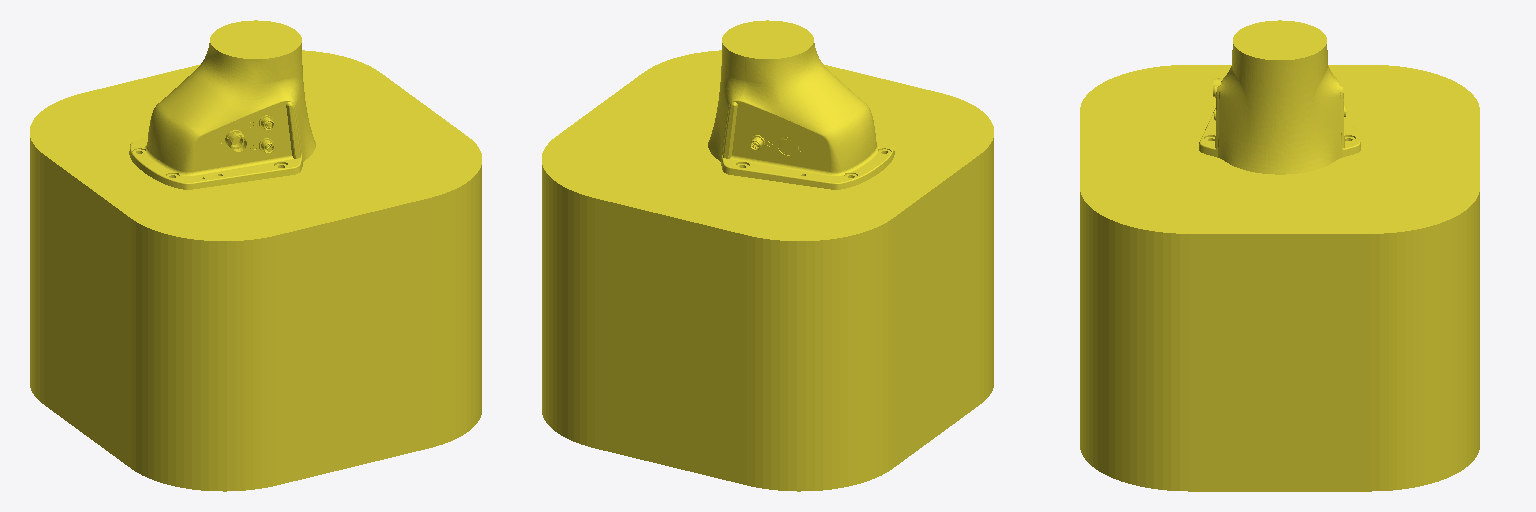
URDF robot description (mmp_panda):
<?xml version='1.0' encoding='utf-8'?>

<robot name="mmp_panda" version="1.0">

  <!-- GROUND LINK -->
  <link name ="ground_link">
    <inertial>
      <origin xyz="0.0 0.0 0.0" rpy="0 0 0" />
      <mass value="0.001" />
      <inertia ixx="1E-06" ixy="0.0" ixz="0.0" iyy="1E-06" iyz="0.0" izz="1E-06" />
    </inertial>
  </link>


  <!-- MOBILE BASE LINKS -->
  <link name ="base_x">
    <inertial>
      <origin xyz="0.0 0.0 0.0" rpy="0 0 0" />
      <mass value="0.001" />
      <inertia ixx="1E-06" ixy="0.0" ixz="0.0" iyy="1E-06" iyz="0.0" izz="1E-06" />
    </inertial>
  </link>

  <link name = "base_y">
    <inertial>
      <origin xyz="0.0 0.0 0.0" rpy="0 0 0" />
      <mass value = "0.001" />
      <inertia ixx="1E-06" ixy="0.0" ixz="0.0" iyy="1E-06" iyz="0.0" izz="1E-06" />
    </inertial>
  </link>

  <!-- MOBILE BASE + LINK 0 OF PANDA ARM -->
  <link name = "base_link">
    <inertial>
      <origin xyz="0.0 0.0 0.1757" rpy="0 0 0" />
      <mass value = "64.6" />
      <inertia ixx="1.721" ixy="0.0" ixz="0.0" iyy="1.712" iyz="0.0" izz="2.030" />
    </inertial>
    <visual>
      <geometry>
        <mesh filename="meshes/panda_BaseCombo.obj" />
      </geometry>
    </visual>
  </link>

  <!-- PANDA ARM LINKS --> 
<!--<link name="link0">
    <inertial>
      <origin xyz="0 0 0.05" rpy="0 0 0" />
      <mass value="4" />
      <inertia ixx="0.4" iyy="0.4" izz="0.4" ixy="0" ixz="0" iyz="0" />
    </inertial>
    <visual>
      <geometry>
        <mesh filename="../panda/meshes/visual/link0.obj"/>
      </geometry>
    </visual>
<!      <collision>
        <geometry>
          <mesh filename="../panda/meshes/collision/link0.obj"/>
        </geometry>
      </collision> 
  </link> -->
  <link name="link1">
    <inertial>
      <origin xyz="0 0 -0.07" rpy="0 -0 0" />
      <mass value="4" />
      <inertia ixx="0.3" iyy="0.3" izz="0.3" ixy="0" ixz="0" iyz="0" />
    </inertial>
    <visual>
      <geometry>
        <mesh filename="../panda/meshes/visual/link1.obj"/>
      </geometry>
    </visual>
    <!-- <collision>
      <geometry>
        <mesh filename="../panda/meshes/collision/link1.obj"/>
      </geometry>
    </collision> -->
  </link>
  <link name="link2">
    <inertial>
      <origin xyz="0 -0.1 0" rpy="0 -0 0" />
      <mass value="3" />
      <inertia ixx="0.3" iyy="0.3" izz="0.3" ixy="0" ixz="0" iyz="0" />
    </inertial>
    <visual>
      <geometry>
        <mesh filename="../panda/meshes/visual/link2.obj"/>
      </geometry>
    </visual>
    <!-- <collision>
      <geometry>
        <mesh filename="../panda/meshes/collision/link2.obj"/>
      </geometry>
    </collision> -->
  </link>
  <link name="link3">
    <inertial>
      <origin xyz="0.04 0 -0.05" rpy="0 -0 0" />
      <mass value="3" />
      <inertia ixx="0.2" iyy="0.2" izz="0.2" ixy="0" ixz="0" iyz="0" />
    </inertial>
    <visual>
      <geometry>
        <mesh filename="../panda/meshes/visual/link3.obj"/>
      </geometry>
    </visual>
    <!-- <collision>
      <geometry>
        <mesh filename="../panda/meshes/collision/link3.obj"/>
      </geometry>
    </collision> -->
  </link>
  <link name="link4">
    <inertial>
      <origin xyz="-0.04 0.05 0" rpy="0 -0 0" />
      <mass value="3" />
      <inertia ixx="0.2" iyy="0.2" izz="0.2" ixy="0" ixz="0" iyz="0" />
    </inertial>
    <visual>
      <geometry>
        <mesh filename="../panda/meshes/visual/link4.obj"/>
      </geometry>
    </visual>
<!--       <collision>
      <geometry>
        <mesh filename="../panda/meshes/collision/link4.obj"/>
      </geometry>
    </collision> -->
  </link>
  <link name="link5">
    <inertial>
      <origin xyz="0 0 -0.15" rpy="0 -0 0" />
      <mass value="3" />
      <inertia ixx="0.2" iyy="0.2" izz="0.2" ixy="0" ixz="0" iyz="0" />
    </inertial>
    <visual>
      <geometry>
        <mesh filename="../panda/meshes/visual/link5.obj"/>
      </geometry>
    </visual>
<!--       <collision>
      <geometry>
        <mesh filename="../panda/meshes/collision/link5.obj"/>
      </geometry>
    </collision> -->
  </link>
  <link name="link6">
    <inertial>
      <origin xyz="0.06 0 0" rpy="0 -0 0" />
      <mass value="2" />
      <inertia ixx="0.1" iyy="0.1" izz="0.1" ixy="0" ixz="0" iyz="0" />
    </inertial>
    <visual>
      <geometry>
        <mesh filename="../panda/meshes/visual/link6.obj"/>
      </geometry>
    </visual>
    <!-- <collision>
      <geometry>
        <mesh filename="../panda/meshes/collision/link6.obj"/>
      </geometry>
    </collision> -->
  </link>
  <link name="link7">
    <inertial>
      <origin xyz="0 0 0.17" rpy="0 -0 0" />
      <mass value="3.0" />
      <inertia ixx="0.09" iyy="0.05" izz="0.07" ixy="0" ixz="0" iyz="0" />
    </inertial>
    <visual>
      <geometry>
        <mesh filename="../panda/meshes/visual/link7.obj"/>
      </geometry>
    </visual>
    <!-- <collision>
      <geometry>
        <mesh filename="../panda/meshes/collision/link7.obj"/>
      </geometry>
    </collision> -->
  </link>


  <!-- JOINTS -->
  <joint name = "base_prismatic_x" type = "prismatic">
    <origin xyz = "0 0 0" rpy = "0 0 0"/> 
    <parent link = "ground_link" />
    <child link= "base_x"/>
    <axis xyz = "1 0 0" />
    <limit effort="87" lower="-2.8973" upper="2.9873" velocity="2.1750" />
  </joint>

  <joint name = "base_prismatic_y" type = "prismatic">
    <origin xyz = "0 0 0" rpy = "0 0 0"/> 
    <parent link = "base_x" />
    <child link= "base_y"/>
    <axis xyz = "0 1 0" />
    <limit effort="87" lower="-2.8973" upper="2.9873" velocity="2.1750" />
  </joint>

  <joint name = "base_revolute" type = "revolute">
    <origin xyz = "0 0 0.0" rpy = "0 0 0"/> 
    <parent link = "base_y" />
    <child link= "base_link"/>
    <axis xyz = "0 0 1" />
    <limit effort="87" lower="-2.8973" upper="2.8973" velocity="2.1750" />
  </joint>
<!--
  <joint name = "base_prismatic_link0" type = "prismatic">
    <origin xyz = "0 0 0.33" rpy = "0 0 0"/> 
    <parent link = "base_link" />
    <child link= "link0"/>
    <axis xyz = "0 0 1" />
    <limit effort="87" lower="-2.8973" upper="2.8973" velocity="2.1750" />
  </joint>
-->
  <joint name="joint1" type="revolute">
      <safety_controller k_position="100.0" k_velocity="40.0" soft_lower_limit="-2.8973" soft_upper_limit="2.8973"/>
      <origin rpy="0 0 1.5708" xyz="0 0 0.333"/>
      <parent link="base_link"/>
      <child link="link1"/>
      <axis xyz="0 0 1"/>
      <calibration falling="-80.0" />
      <limit effort="87" lower="-2.8973" upper="2.8973" velocity="2.1750"/>
  </joint>

  <joint name="joint2" type="revolute">
      <safety_controller k_position="100.0" k_velocity="40.0" soft_lower_limit="-1.7628" soft_upper_limit="1.7628"/>
      <origin rpy="-1.57079632679 0 0" xyz="0 0 0"/>
      <parent link="link1"/>
      <child link="link2"/>
      <axis xyz="0 0 1"/>
      <calibration falling="-45.0" />
      <limit effort="87" lower="-1.7628" upper="1.7628" velocity="2.1750"/>
  </joint>

  <joint name="joint3" type="revolute">
      <safety_controller k_position="100.0" k_velocity="40.0" soft_lower_limit="-2.8973" soft_upper_limit="2.8973"/>
      <origin rpy="1.57079632679 0 0" xyz="0 -0.316 0"/>
      <parent link="link2"/>
      <child link="link3"/>
      <axis xyz="0 0 1"/>
      <limit effort="87" lower="-2.8973" upper="2.8973" velocity="2.1750"/>
  </joint>

  <joint name="joint4" type="revolute">
      <safety_controller k_position="100.0" k_velocity="40.0" soft_lower_limit="-3.0718" soft_upper_limit="-0.0698"/>
      <origin rpy="1.57079632679 0 0" xyz="0.0825 0 0"/>
      <parent link="link3"/>
      <child link="link4"/>
      <axis xyz="0 0 1"/>
      <calibration falling="-125.0" />
      <limit effort="87" lower="-3.0718" upper="-0.0698" velocity="2.1750"/>
  </joint>

  <joint name="joint5" type="revolute">
      <safety_controller k_position="100.0" k_velocity="40.0" soft_lower_limit="-2.8973" soft_upper_limit="2.8973"/>
      <origin rpy="-1.57079632679 0 0" xyz="-0.0825 0.384 0"/>
      <parent link="link4"/>
      <child link="link5"/>
      <axis xyz="0 0 1"/>
      <limit effort="12" lower="-2.8973" upper="2.8973" velocity="2.6100"/>
  </joint>

  <joint name="joint6" type="revolute">
      <safety_controller k_position="100.0" k_velocity="40.0" soft_lower_limit="-0.0175" soft_upper_limit="3.7525"/>
      <origin rpy="1.57079632679 0 0" xyz="0 0 0"/>
      <parent link="link5"/>
      <child link="link6"/>
      <axis xyz="0 0 1"/>
      <calibration falling="80.0" />
      <limit effort="12" lower="-0.0175" upper="3.7525" velocity="2.6100"/>
  </joint>

  <joint name="joint7" type="revolute">
      <safety_controller k_position="100.0" k_velocity="40.0" soft_lower_limit="-2.8973" soft_upper_limit="2.8973"/>
      <origin rpy="1.57079632679 0 0" xyz="0.088 0 0"/>
      <parent link="link6"/>
      <child link="link7"/>
      <axis xyz="0 0 1"/>
      <limit effort="12" lower="-2.8973" upper="2.8973" velocity="2.6100"/>
  </joint>
<!--
   <joint name="joint1" type="revolute">
    <origin xyz="0 0 0.48643" rpy="3.1416 2.7629E-18 -3.14" />
    <parent link="base_link" />
    <child link="link1" />
    <axis xyz="0 0 1" />
    <limit lower="-10" upper="10" effort="39" velocity="0.8727" />
  </joint>

  <joint name="joint2" type="revolute">
    <origin xyz="0 0.005375 -0.12838" rpy="1.5708 2.1343E-17 -1.1102E-16" />
    <parent link="link1" />
    <child link="link2" />
    <axis xyz="0 0 1" />
    <calibration falling="-45.0" />
    <limit lower="-10" upper="10" effort="39" velocity="0.8727" />
  </joint>

  <joint name="joint3" type="revolute">
    <origin xyz="0 -0.21038 -0.006375" rpy="-1.5708 1.2326E-32 -2.9122E-16" />
    <parent link="link2" />
    <child link="link3" />
    <axis xyz="0 0 1" />
    <limit lower="-10" upper="10" effort="39" velocity="0.8727" />
  </joint>

  <joint name="joint4" type="revolute">
    <origin xyz="0 0.006375 -0.21038" rpy="1.5708 -6.6954E-17 -1.6653E-16" />
    <parent link="link3" />
    <child link="link4" />
    <axis xyz="0 0 1" />
    <calibration falling="-125.0" />
    <limit lower="-10" upper="10" effort="39" velocity="0.8727" />
  </joint>

  <joint name="joint5" type="revolute">
    <origin xyz="0 -0.20843 -0.006375" rpy="-1.5708 2.2204E-16 -6.373E-17" />
    <parent link="link4" />
    <child link="link5" />
    <axis xyz="0 0 1" />
    <limit lower="-10" upper="10" effort="9" velocity="0.8727" />
  </joint>

  <joint name="joint6" type="revolute">
    <origin xyz="0 0.00017505 -0.10593" rpy="1.5708 9.2076E-28 -8.2157E-15" />
    <parent link="link5" />
    <child link="link6" />
    <axis xyz="0 0 1" />
    <calibration falling="80.0" />
    <limit lower="-10" upper="10" effort="9" velocity="0.8727" />
  </joint>

  <joint name="joint7" type="revolute">
    <origin xyz="0 -0.10593 -0.00017505" rpy="-1.5708 -5.5511E-17 9.6396E-17" />
    <parent link="link6" />
    <child link="link7" />
    <axis xyz="0 0 1" />
    <limit lower="-10" upper="10" effort="9" velocity="0.8727" />
  </joint>
-->
  
</robot> 

--- Render facts (derived) ---
Views: 3 orthographic renders of the robot side by side, from view 1: azimuth 30°, elevation 25°; view 2: azimuth 150°, elevation 25°; view 3: azimuth 270°, elevation 25°.
Model mmp_panda with 11 links and 10 joints (8 revolute, 2 prismatic), rooted at ground_link, posed all joints at 0 but 1 set to mid-range because 0 is outside their limits (joint4 = -1.57).
Visible links, largest first — view 1: base_link; view 2: base_link; view 3: base_link.
Link boxes in pixels (x1,y1,x2,y2): base_link: [30, 20, 481, 491]; base_link: [542, 20, 993, 491]; base_link: [1080, 20, 1479, 491].
Bounding box of the posed robot: 0.465 × 0.465 × 0.47 m (x, y, z).
1 mesh visuals loaded from 8 distinct referenced files (1 OBJ); not drawn: 7 (reference not matched to a file when rendering).